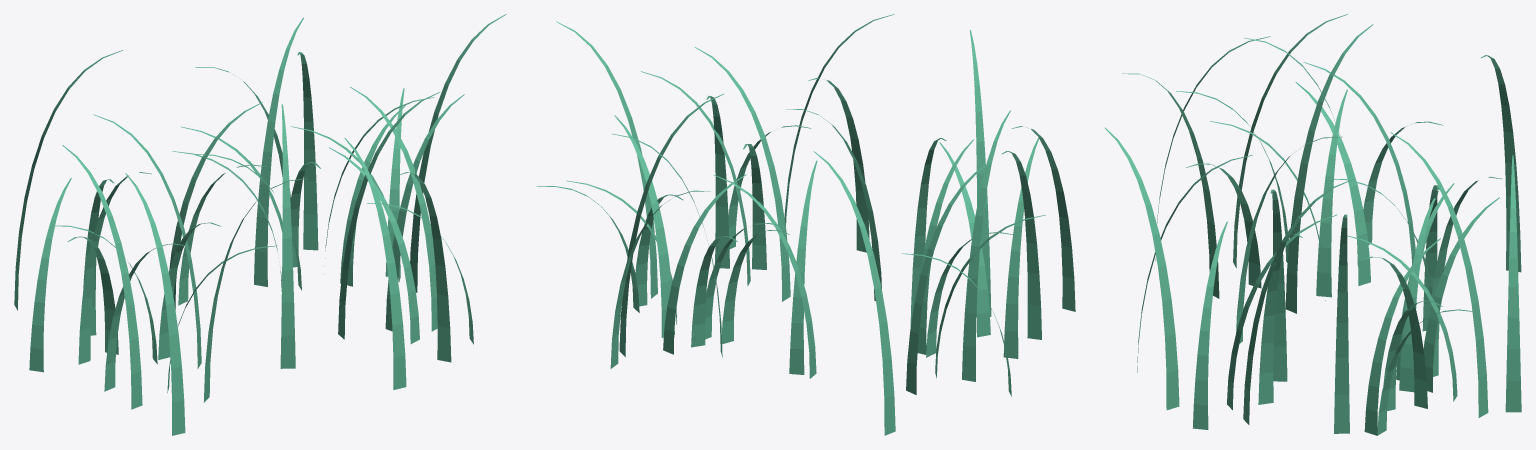
Rendered from seagrass.fbx.
3 views of the same model, side by side, from view 1: azimuth 30°, elevation 25°; view 2: azimuth 150°, elevation 25°; view 3: azimuth 270°, elevation 25° (orthographic). The views are drawn at different scales.
Visible parts, largest first — view 1: seagrass; view 2: seagrass; view 3: seagrass.
Boxes of the visible parts, bbox=[...] form: seagrass: bbox=[14, 14, 506, 435]; seagrass: bbox=[536, 14, 1075, 435]; seagrass: bbox=[1104, 14, 1521, 435].
Size of the model in its own units: 158 by 81.89 by 117.
